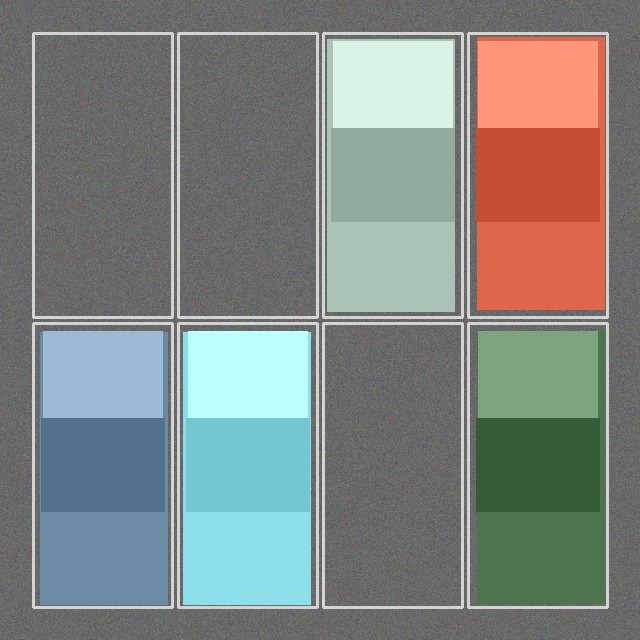space-empty: (35, 35, 170, 315), (180, 35, 315, 315), (325, 325, 460, 605)
space-occupied: (325, 35, 460, 315), (470, 35, 605, 315), (35, 325, 170, 605), (180, 325, 315, 605), (470, 325, 605, 605)
